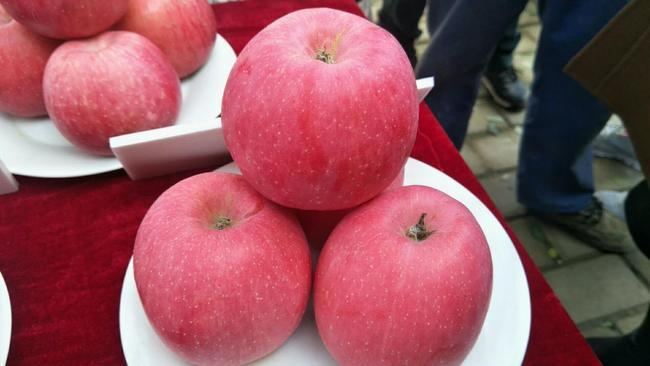apple: (218, 6, 418, 207), (124, 160, 318, 355), (303, 180, 485, 361), (7, 14, 186, 143), (116, 1, 220, 79), (1, 16, 58, 117)
